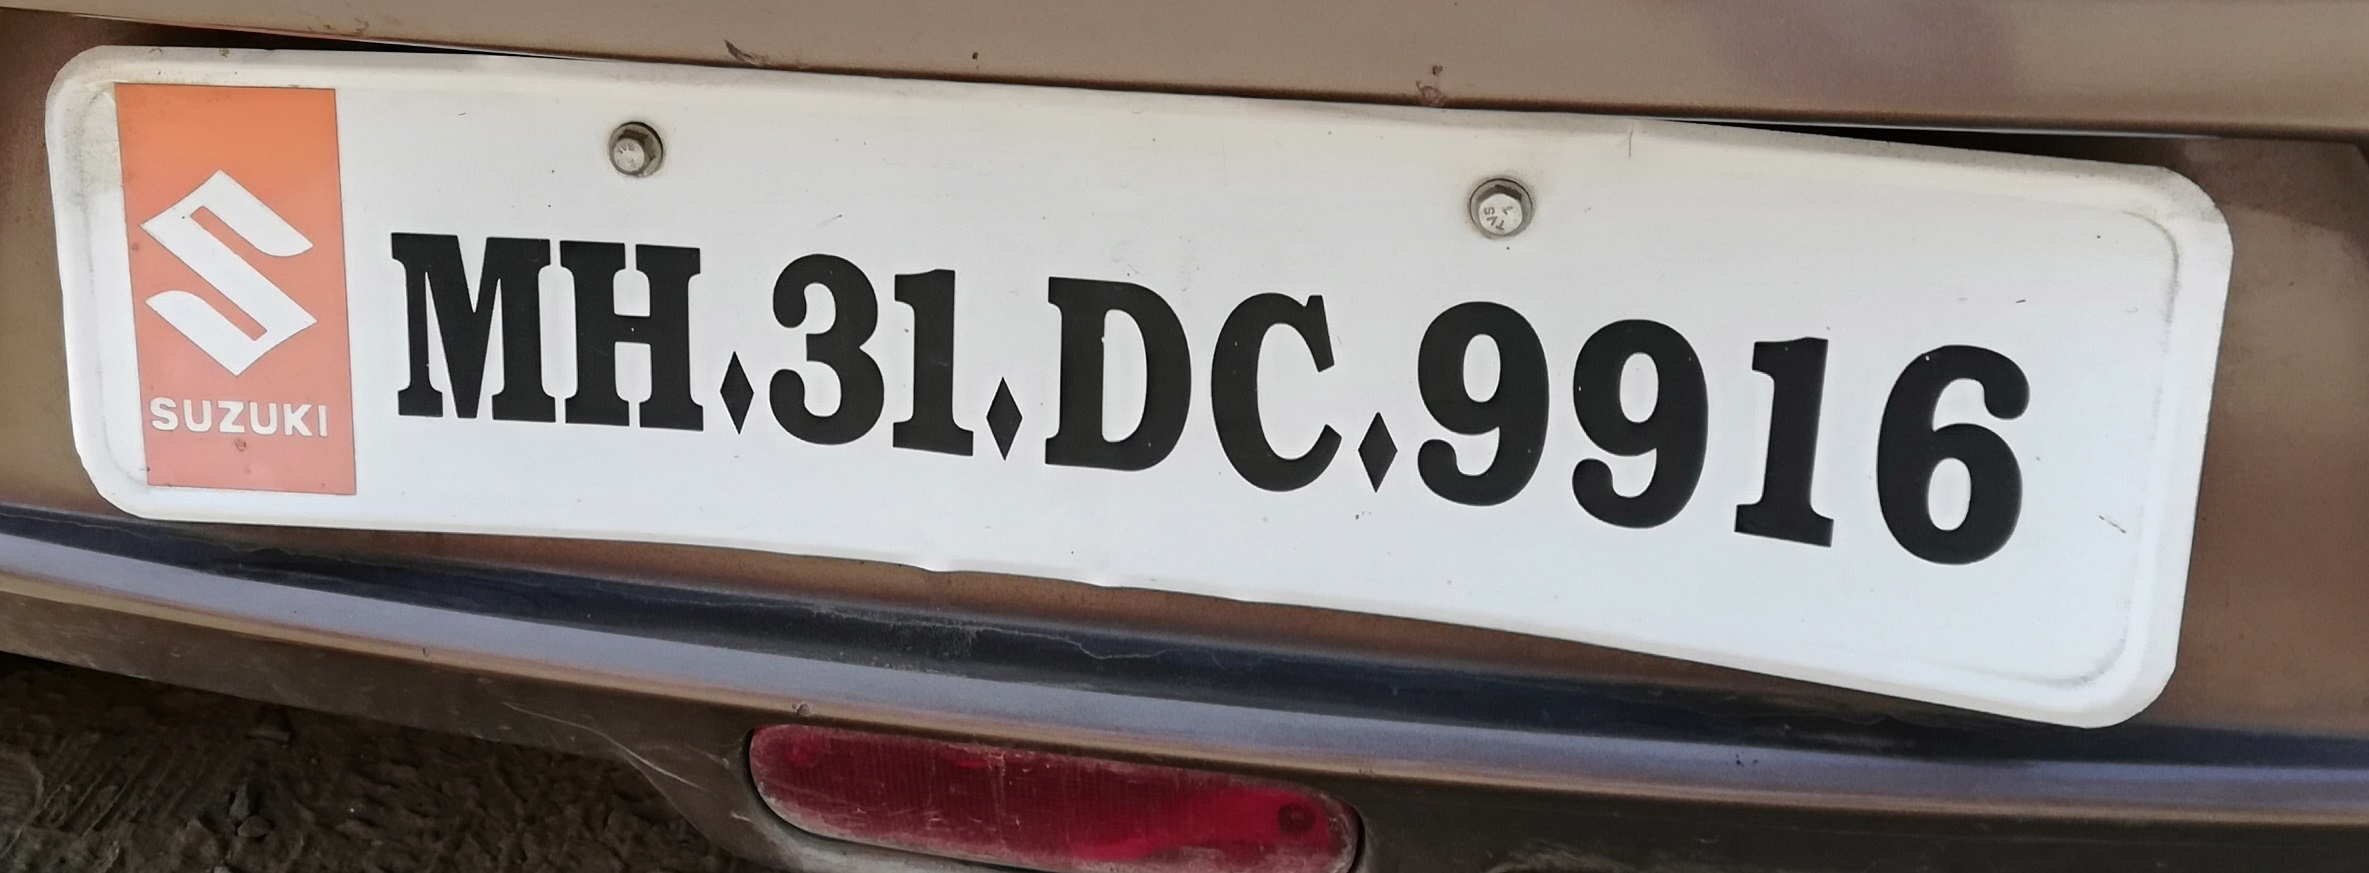numberplate: (44, 33, 2234, 750)
